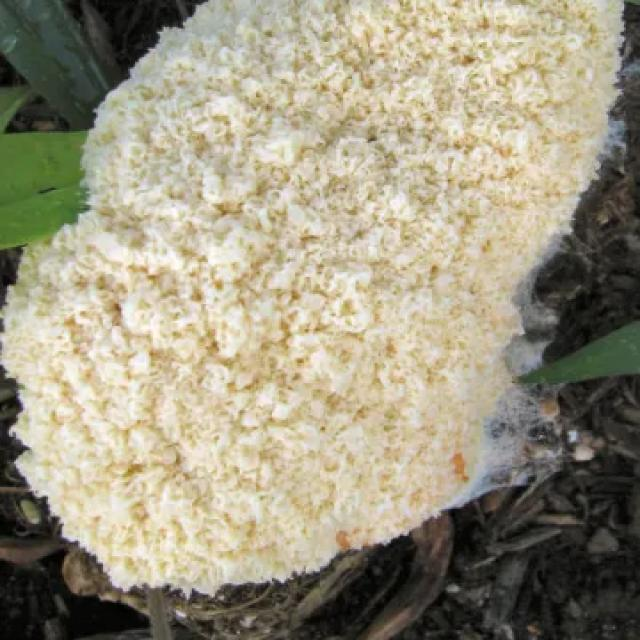Dog_vomit_slime_mold: (9, 26, 640, 640)
